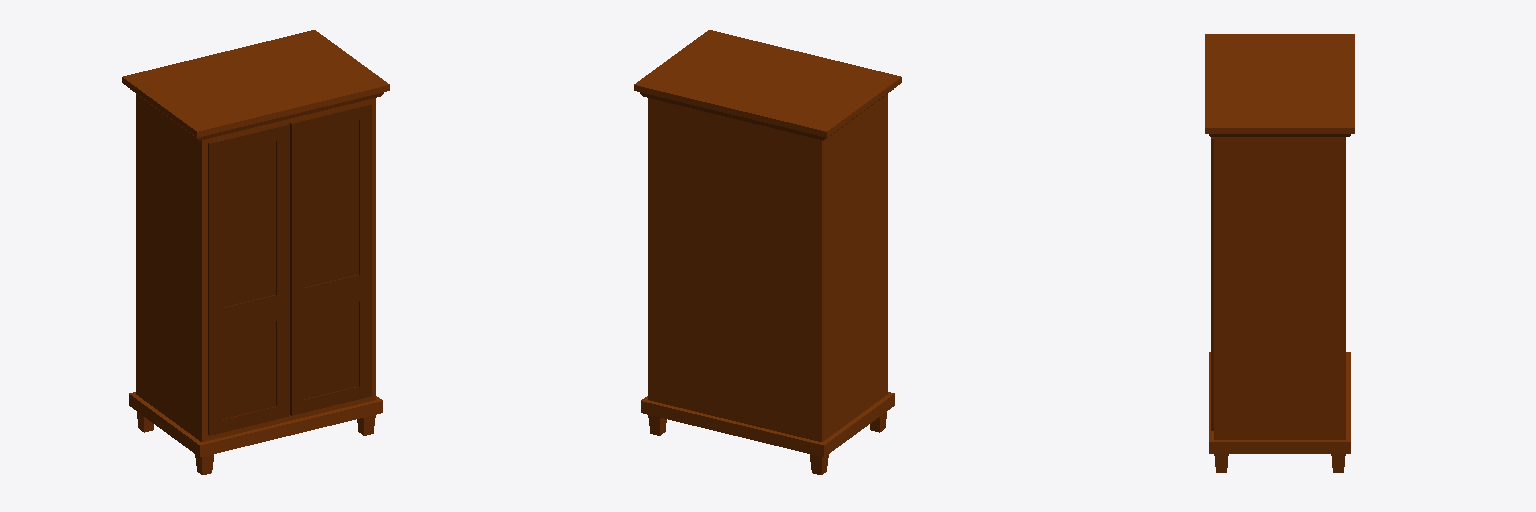
File: hoher_schrank.obj
The picture shows the model from 3 angles: view 1: azimuth 30°, elevation 25°; view 2: azimuth 150°, elevation 25°; view 3: azimuth 270°, elevation 25°; orthographic projection.
Visible parts, largest first — view 1: Schranktuer, Schrank; view 2: Schrank; view 3: Schrank, Schranktuer.
Part boxes in pixels (left/top/right/bottom): Schranktuer: left=208, top=104, right=371, bottom=435; Schrank: left=122, top=30, right=389, bottom=474; Schrank: left=634, top=30, right=901, bottom=474; Schrank: left=1205, top=34, right=1354, bottom=472; Schranktuer: left=1211, top=137, right=1213, bottom=430.
Size of the model in its own units: 1.57 by 2.73 by 1.06.